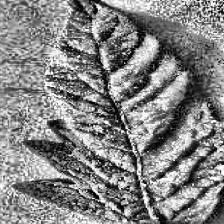spider mites: (15, 0, 224, 224)
